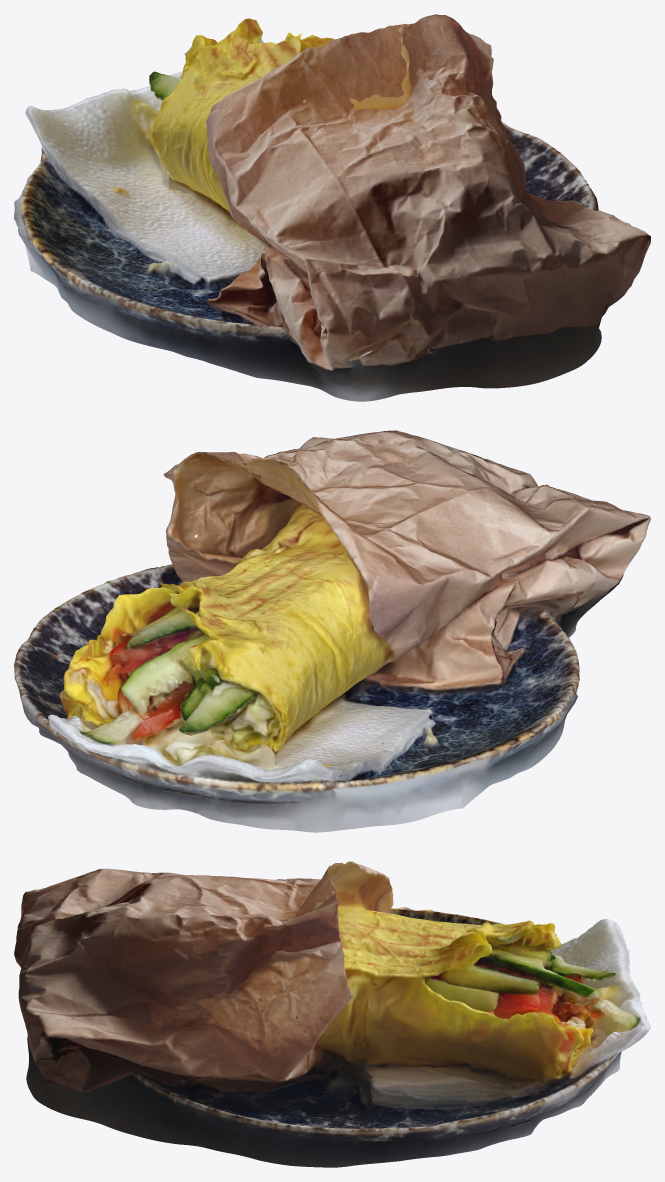
The model's file is chicken-shawarma.glb.
The picture shows the model from 3 angles, top to bottom: view 1: azimuth 30°, elevation 25°; view 2: azimuth 150°, elevation 25°; view 3: azimuth 270°, elevation 25°; orthographic projection. The views are drawn at different scales.
Visible parts, largest first — view 1: Mesh_0_Material_0_0; view 2: Mesh_0_Material_0_0; view 3: Mesh_0_Material_0_0.
Boxes of the visible parts, bbox=[...] form: Mesh_0_Material_0_0: bbox=[14, 14, 650, 401]; Mesh_0_Material_0_0: bbox=[14, 430, 650, 832]; Mesh_0_Material_0_0: bbox=[14, 861, 650, 1167].
Bounding box in the file's own units: 0.4091 × 0.1844 × 0.4965.
Materials: 1 (1 with a texture image).
